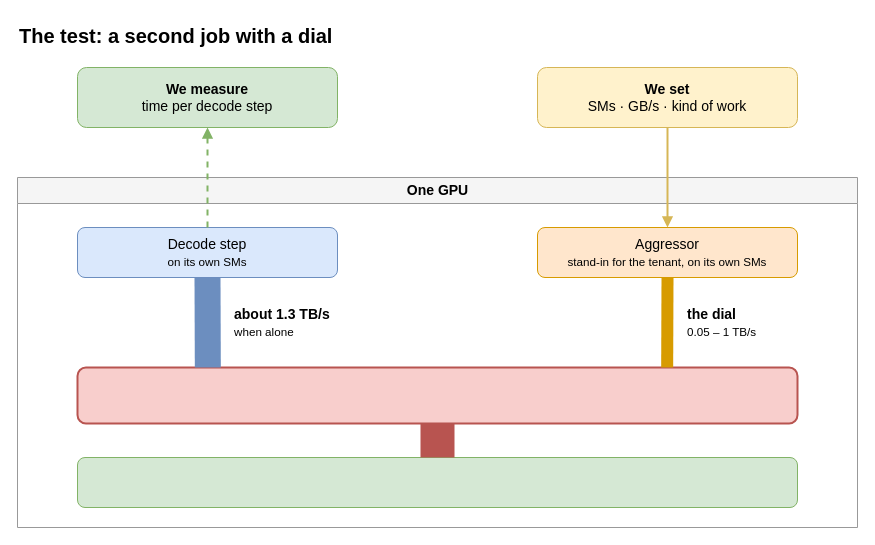
This 875x545 diagram has some shape labels left out. The box of each missing label's shape, as (x1, y1, x2, y2) in pixels:
GPU memory: (76, 456, 798, 508)
Path between SMs and GPU memory shared: (76, 366, 798, 424)
